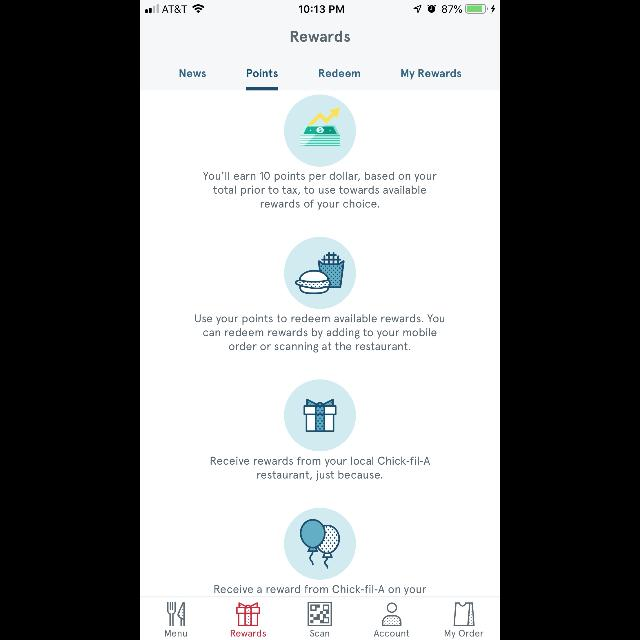icon: (284, 379, 356, 451), (236, 602, 260, 626), (382, 602, 402, 626)
image: (284, 95, 356, 167), (284, 237, 356, 309), (284, 508, 356, 580), (308, 602, 332, 626), (454, 602, 474, 626), (168, 602, 185, 626)
text: (196, 315, 444, 353), (203, 172, 437, 210), (210, 457, 430, 481), (214, 584, 426, 596), (401, 68, 461, 80), (290, 31, 350, 43), (318, 69, 359, 77), (444, 630, 484, 638), (246, 69, 278, 77), (374, 630, 410, 636), (180, 69, 206, 77), (232, 630, 266, 636), (165, 630, 187, 636), (310, 630, 330, 636)
uppertaskbar: (140, 0, 500, 14)
